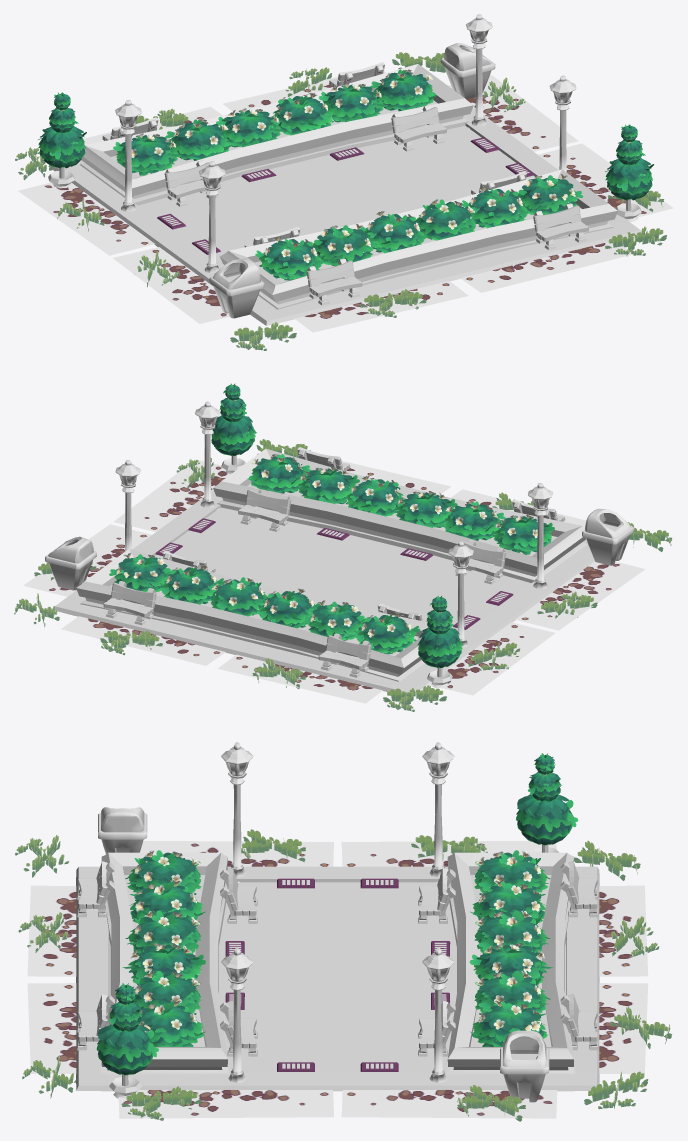
The model's file is Model_Park_1.fbx.
3 views of the same model, one above another, from view 1: azimuth 30°, elevation 25°; view 2: azimuth 150°, elevation 25°; view 3: azimuth 270°, elevation 25° (orthographic). The views are drawn at different scales.
Parts seen in each view (by area): view 1: Plane.015, Cube.006, Cube.001, TEX_DEKOR.002, rumput.001, Cube.012, bench.001, bench.003, Sphere.007, Sphere.004, Cube.013, Cube.014 (+1 smaller); view 2: Plane.015, Cube.006, Cube.001, TEX_DEKOR.002, rumput.001, Cube.012, bench.001, bench.003, Sphere.007, Sphere.004, Cube.013, Cube.014 (+1 smaller); view 3: Plane.015, TEX_DEKOR.002, Cube.006, Cube.001, rumput.001, Cube.012, bench.001, bench.003, Sphere.004, Sphere.007, Cube.014, Plane.018 (+1 smaller).
Boxes of the visible parts, x1,y1,x2,y2 form: Plane.015: (48,107,641,325); Cube.006: (113,69,583,280); Cube.001: (80,64,617,309); TEX_DEKOR.002: (18,71,673,332); rumput.001: (15,52,667,350); Cube.012: (115,14,576,273); bench.001: (102,62,588,305); bench.003: (164,105,526,247); Sphere.007: (38,92,86,168); Sphere.004: (605,124,653,200); Cube.013: (209,258,264,318); Cube.014: (440,43,495,99); Plane.015: (54,490,594,693); Cube.006: (109,454,554,654); Cube.001: (76,448,586,681); TEX_DEKOR.002: (23,459,645,703); rumput.001: (14,439,672,711); Cube.012: (115,401,553,647); bench.001: (103,447,565,677); bench.003: (162,487,506,622); Sphere.007: (417,596,463,667); Sphere.004: (211,383,256,455); Cube.013: (582,508,633,565); Cube.014: (45,536,96,590); Plane.015: (76,866,599,1091); TEX_DEKOR.002: (27,840,648,1118); Cube.006: (122,850,553,1046); Cube.001: (100,852,575,1074); rumput.001: (15,829,672,1121); Cube.012: (221,742,454,1082); bench.001: (77,861,598,1050); bench.003: (220,868,455,1056); Sphere.004: (96,983,158,1075); Sphere.007: (516,753,578,845); Cube.014: (500,1030,549,1102); Plane.018: (225,878,450,1071).
Size of the model in its own units: 2320 by 536 by 2299.
